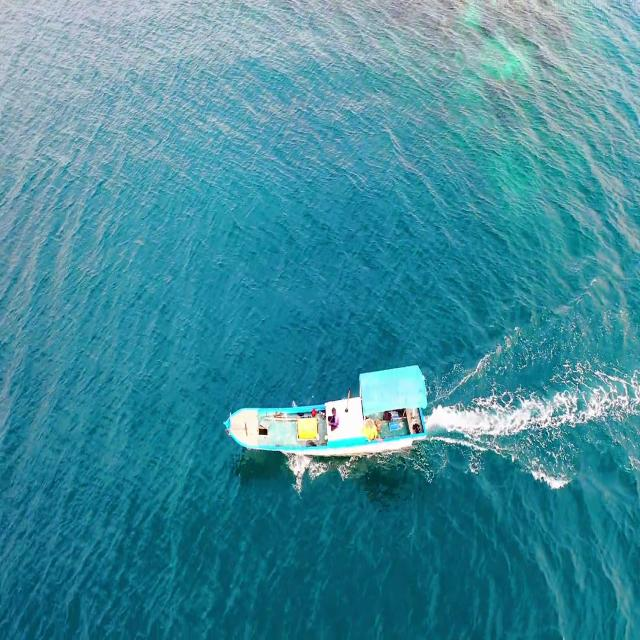ship: (218, 353, 437, 473)
